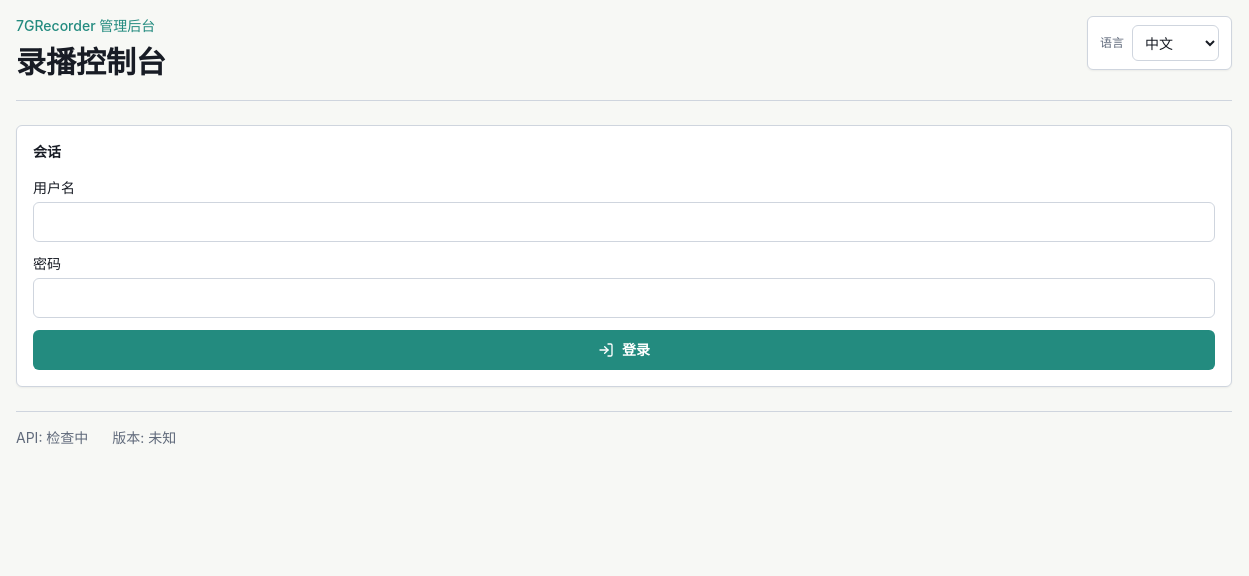
Test: AdminDashboard › renders an empty profile table when the API returns null items
Select "English" in the dropdown at (1176, 43), box x1=1132 y1=25 x2=1219 y2=61
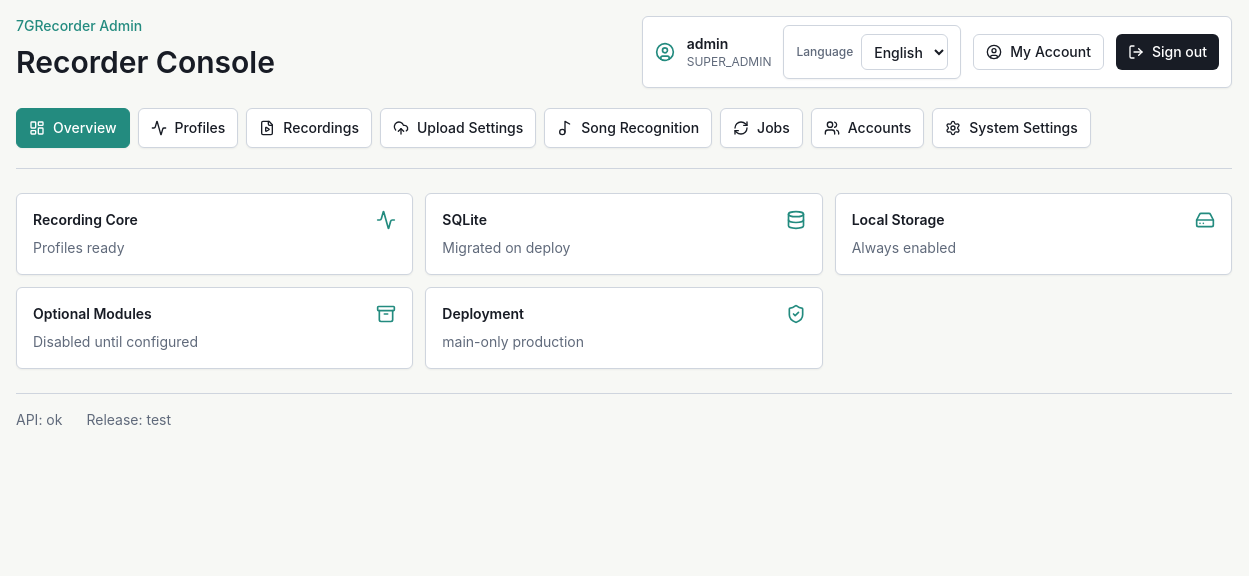
Expected: the heading "Recorder Console" is shown, x1=16 y1=44 x2=275 y2=80
Click the button "Profiles".
click(188, 128)  # box x1=138 y1=108 x2=238 y2=148
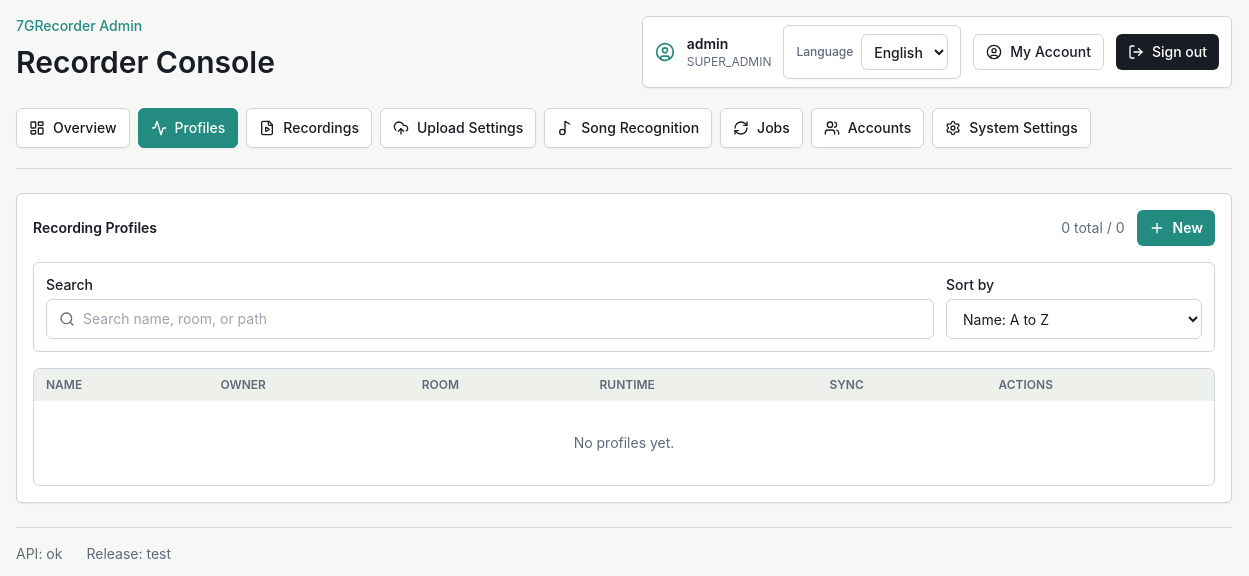
Expected: the text "No profiles yet." is shown, x1=34 y1=401 x2=1214 y2=485
